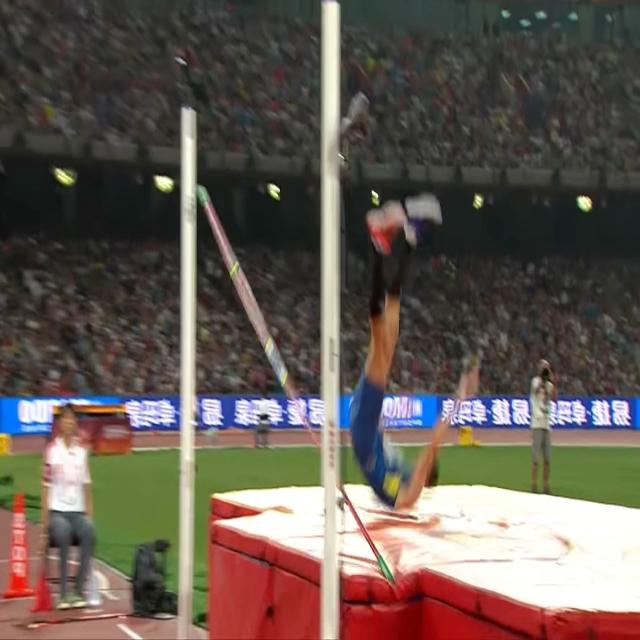land: (352, 201, 477, 507)
